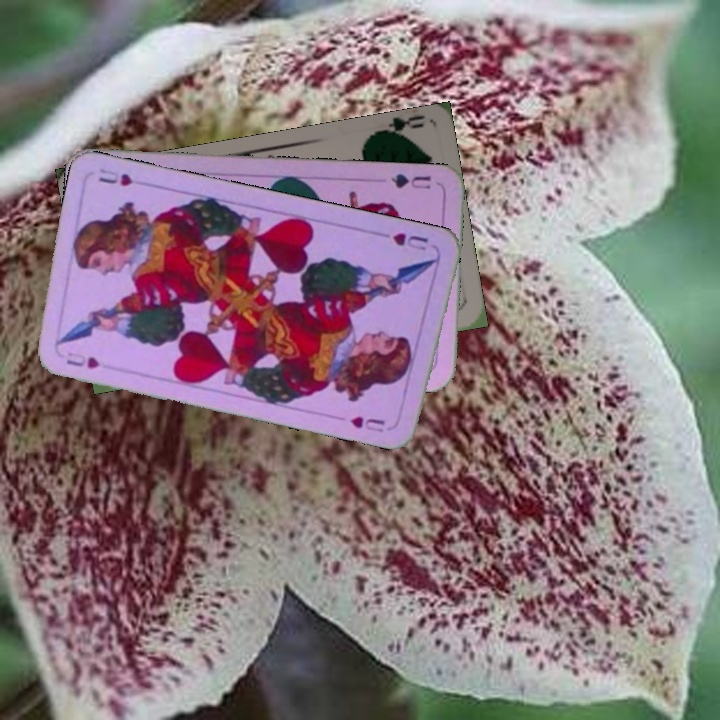GO: (369, 114, 427, 143)
GU: (385, 169, 434, 192)
HU: (377, 228, 431, 253), (62, 348, 102, 371)
